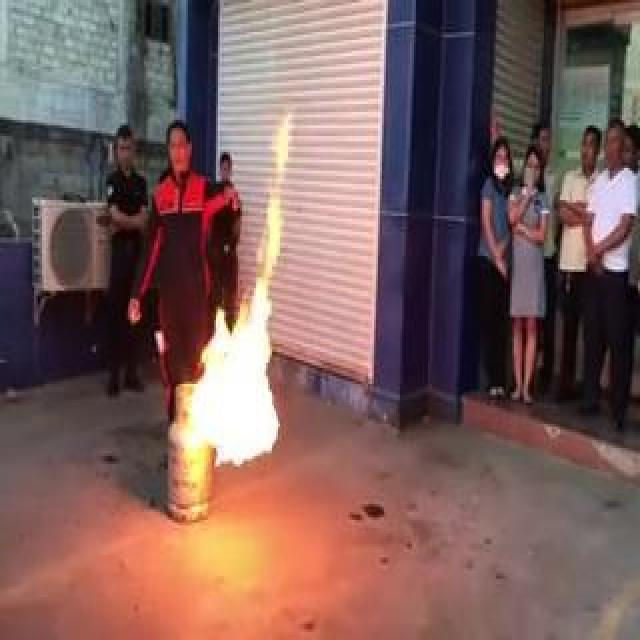Smoke: (182, 196, 280, 459)
